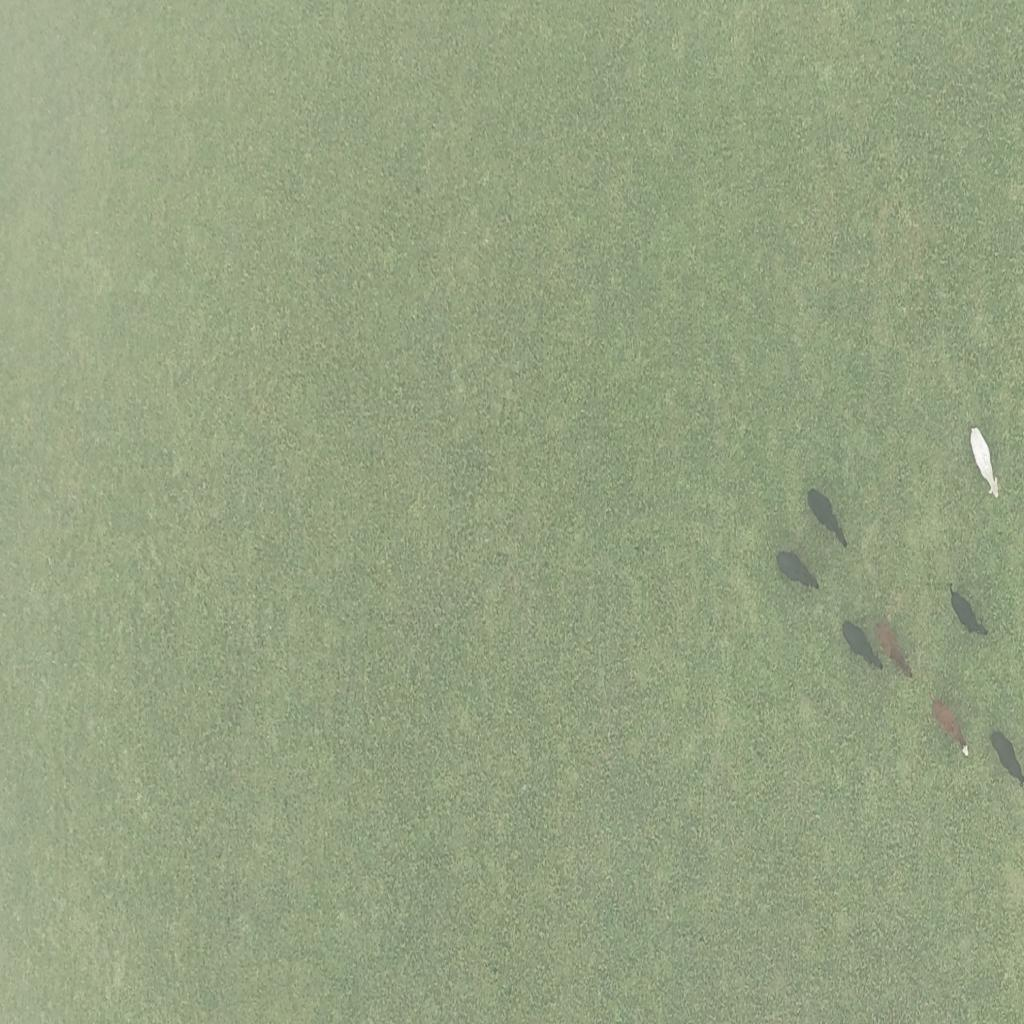cow: (806, 486, 850, 551), (984, 724, 1024, 793), (964, 421, 998, 501), (930, 698, 970, 760), (875, 618, 915, 679), (841, 621, 885, 675), (949, 582, 990, 637), (773, 548, 818, 595)
